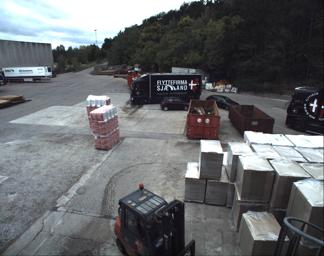rockwool_batts: (90, 103, 119, 147), (85, 91, 110, 120)
